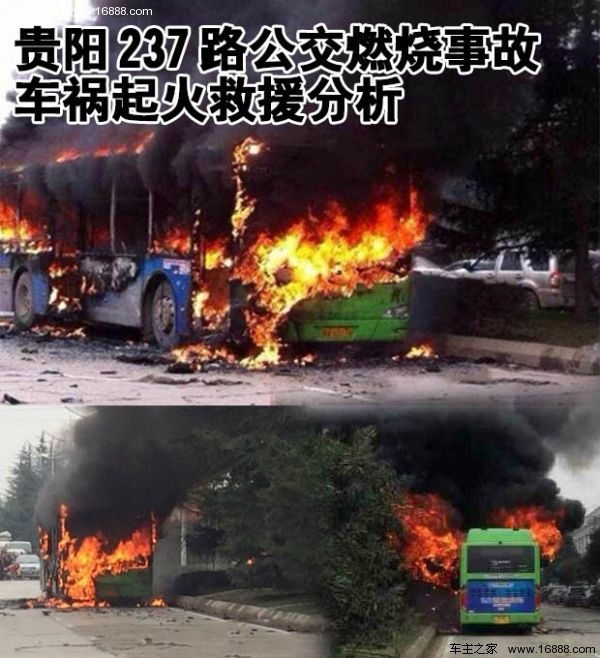fire: (11, 147, 432, 375), (395, 485, 572, 594), (29, 494, 169, 621)
